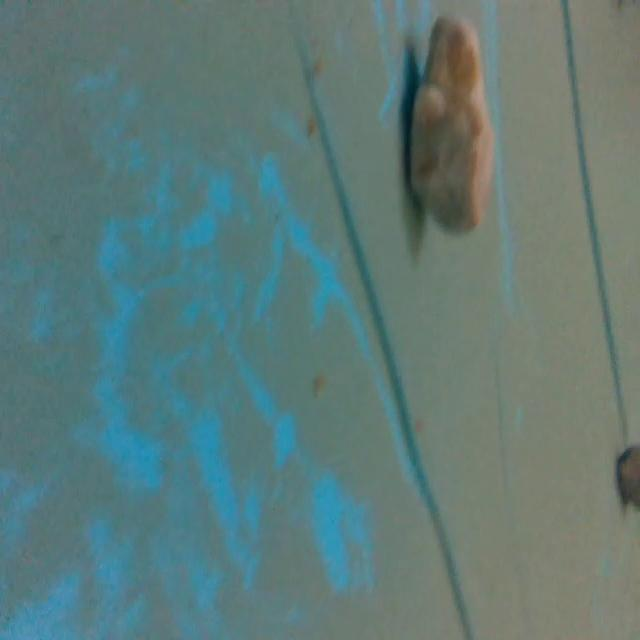rock: (395, 13, 508, 241)
